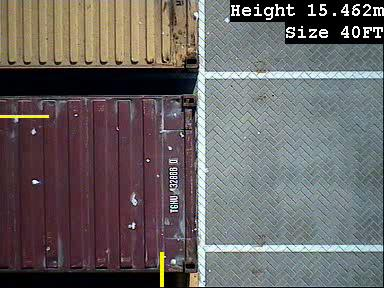groundmarker_2: (194, 50, 237, 105), (197, 221, 239, 276)
